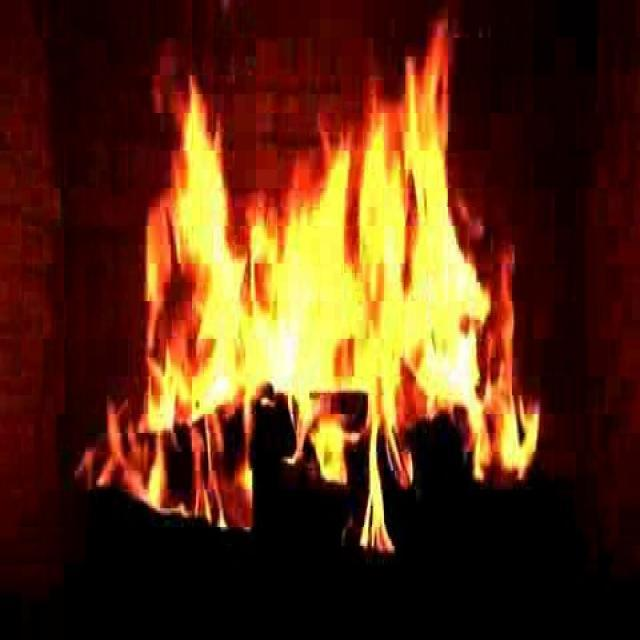Smoke: (109, 40, 518, 520)
